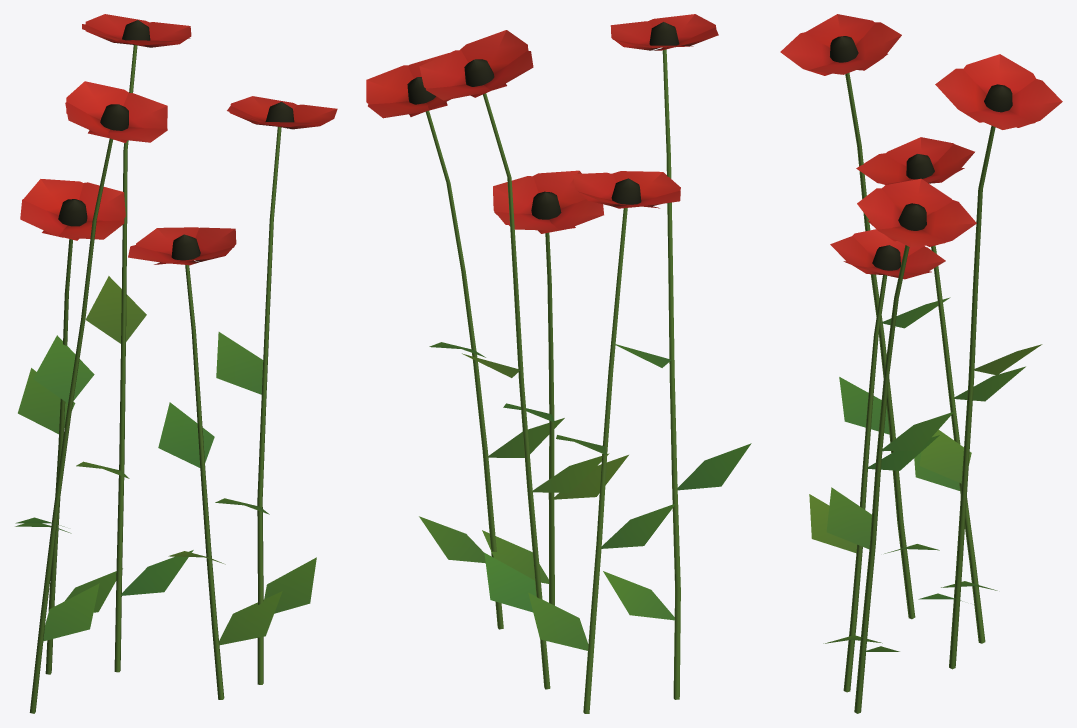
File: flower-poppy-b.lod0.glb
3 views of the same model, side by side, from view 1: azimuth 30°, elevation 25°; view 2: azimuth 150°, elevation 25°; view 3: azimuth 270°, elevation 25° (orthographic). The views are drawn at different scales.
Parts seen in each view (by area): view 1: flower-poppy-b.lod0; view 2: flower-poppy-b.lod0; view 3: flower-poppy-b.lod0.
Part boxes in pixels (<box>): flower-poppy-b.lod0: <box>15,14,337,713</box>; flower-poppy-b.lod0: <box>366,14,751,713</box>; flower-poppy-b.lod0: <box>780,14,1062,713</box>.
Bounding box in the file's own units: 0.3138 × 0.5535 × 0.2331.
